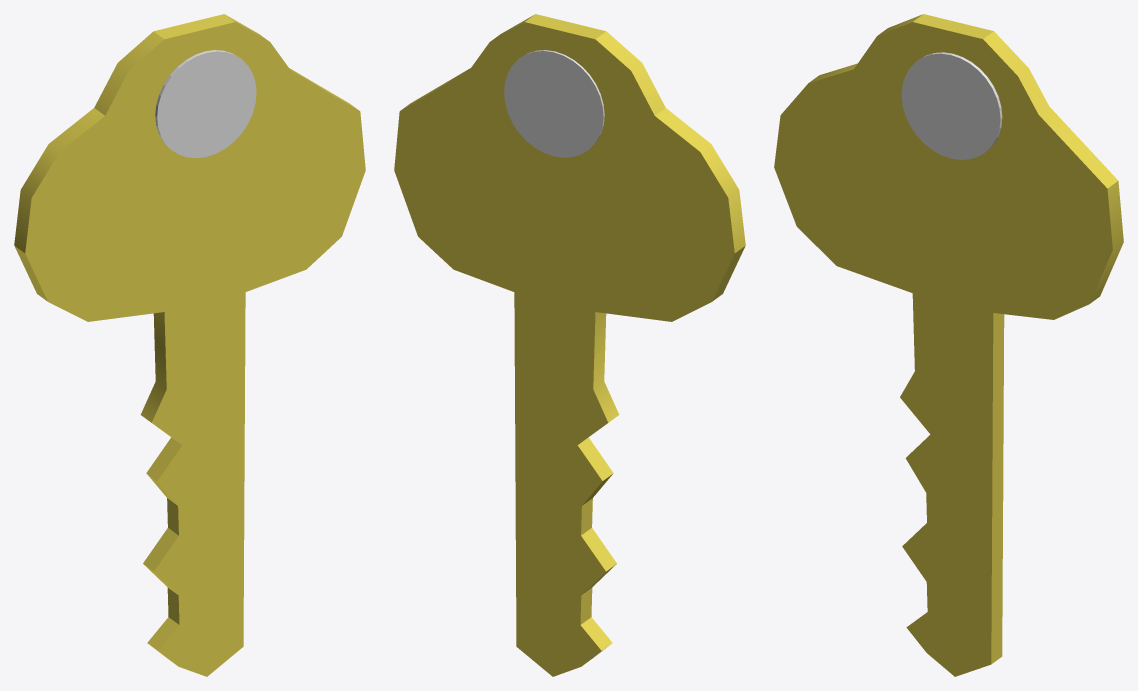
File: key1_model.glb
3 renders of one model, left to right at view 1: azimuth 30°, elevation 25°; view 2: azimuth 150°, elevation 25°; view 3: azimuth 330°, elevation 25°, orthographic.
Visible parts, largest first — view 1: Cube, Circle; view 2: Cube, Circle; view 3: Cube, Circle.
Boxes of the visible parts, x1,y1,x2,y2 form: Cube: (14,14,365,676); Circle: (155,50,256,158); Cube: (394,14,745,676); Circle: (504,50,604,157); Cube: (774,14,1123,676); Circle: (901,52,1002,159).
Size of the model in its own units: 1.04 by 1.88 by 0.0744.
